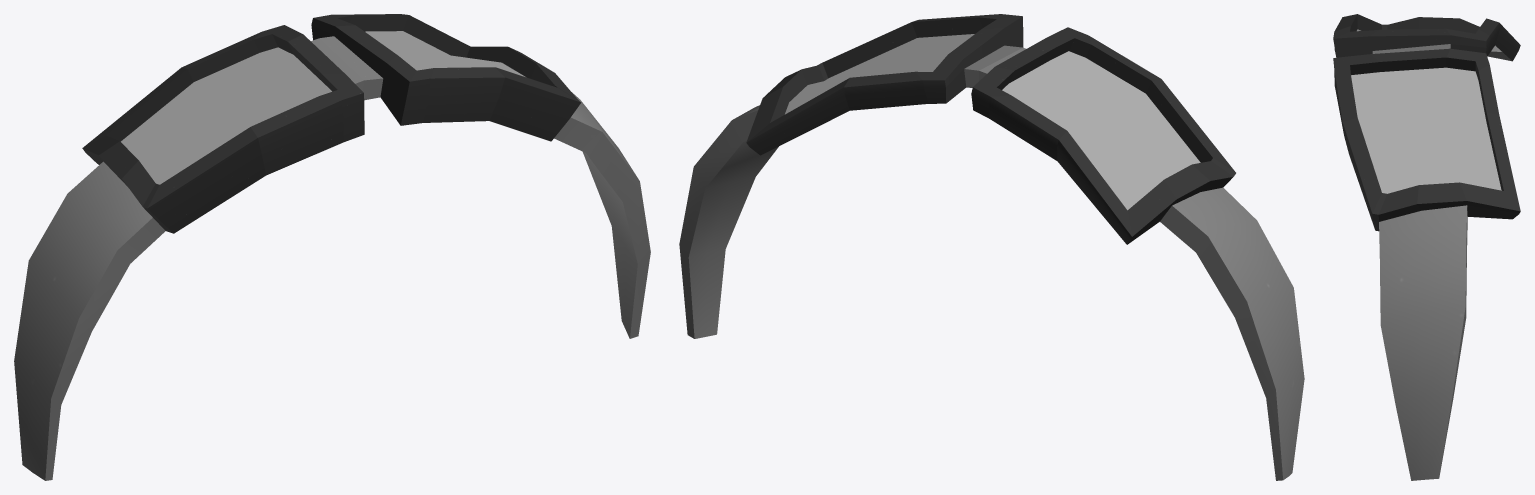
File: Otto_Goggles_Model_1 (1).fbx
3 renders of one model, left to right at view 1: azimuth 30°, elevation 25°; view 2: azimuth 150°, elevation 25°; view 3: azimuth 270°, elevation 25°, orthographic. The views are drawn at different scales.
Visible parts, largest first — view 1: Otto_Goggles; view 2: Otto_Goggles; view 3: Otto_Goggles.
Boxes of the visible parts, <box> form: Otto_Goggles: <box>14,14,650,480</box>; Otto_Goggles: <box>679,14,1304,480</box>; Otto_Goggles: <box>1333,14,1520,480</box>.
Size of the model in its own units: 46.61 by 26.63 by 14.37.
